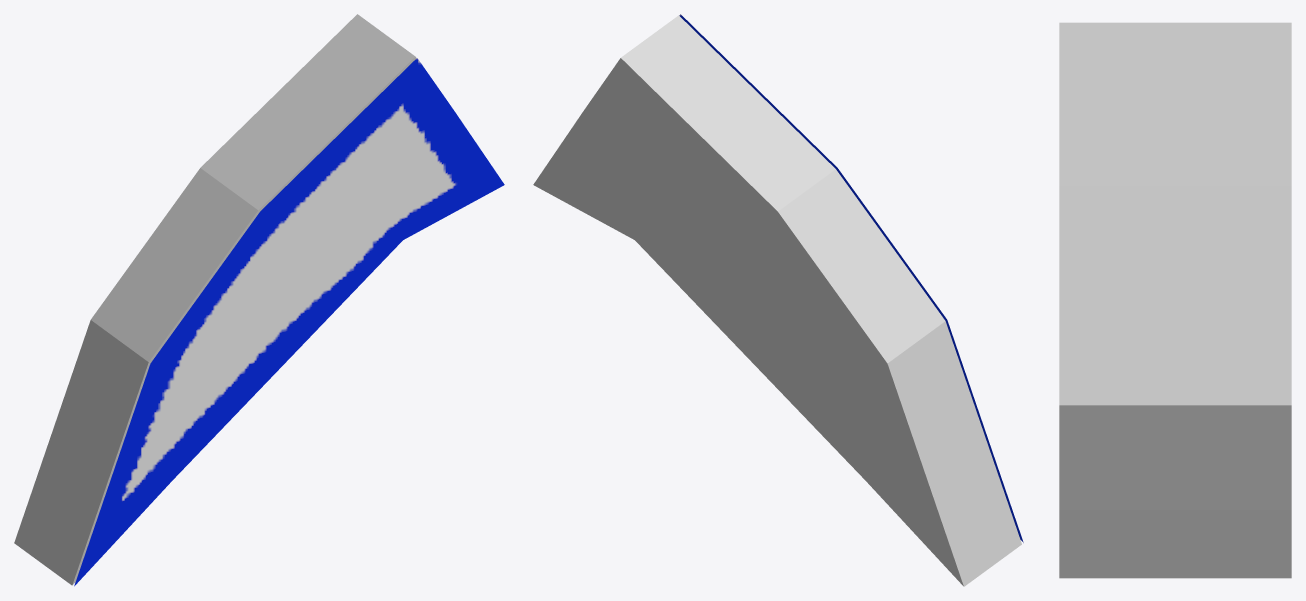
The picture shows the model from 3 angles, left to right: view 1: azimuth 30°, elevation 25°; view 2: azimuth 150°, elevation 25°; view 3: azimuth 270°, elevation 25°; orthographic projection. The views are drawn at different scales.
Visible parts, largest first — view 1: In6_1, In6_0; view 2: In6_0, In6_1; view 3: In6_0.
Part boxes in pixels (x1=…): In6_1: x1=74, y1=58, x2=504, y2=586; In6_0: x1=14, y1=14, x2=416, y2=585; In6_0: x1=533, y1=15, x2=1021, y2=586; In6_1: x1=679, y1=14, x2=1023, y2=542; In6_0: x1=1059, y1=22, x2=1291, y2=578.
Bounding box in the file's own units: 2.14 × 2.12 × 0.515.
Materials: 2 (1 with a texture image).
